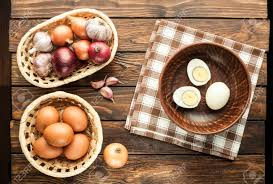Eggs: (46, 127, 80, 147)
Onion: (52, 50, 84, 80)
